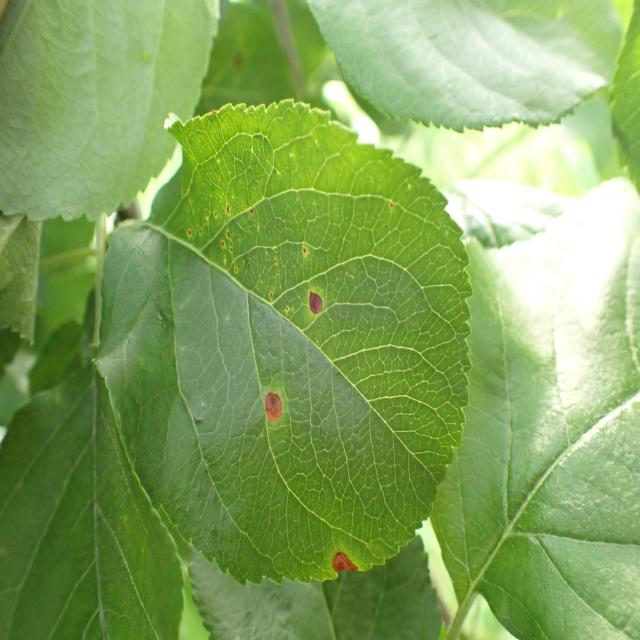Black Rot: (309, 514, 370, 596), (296, 283, 340, 343), (256, 362, 286, 445)
